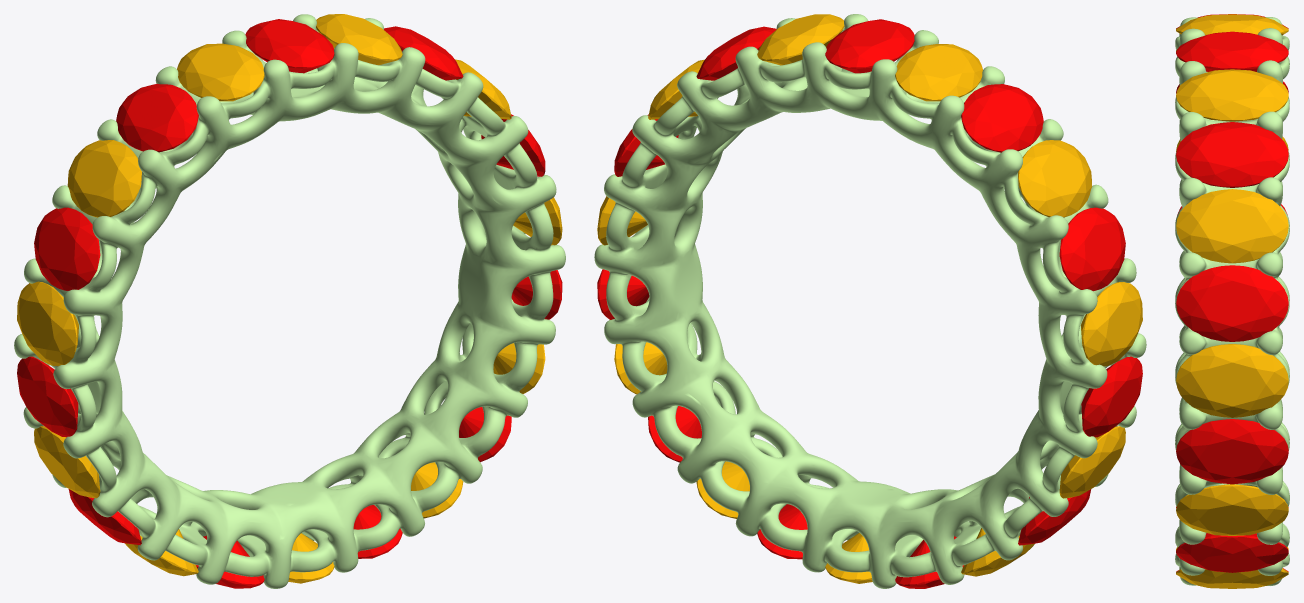
Rendered from TCC-RN-CR-32197-Oval-Eternity-20.glb.
The picture shows the model from 3 angles, left to right: view 1: azimuth 30°, elevation 25°; view 2: azimuth 150°, elevation 25°; view 3: azimuth 270°, elevation 25°; orthographic projection. The views are drawn at different scales.
Visible parts, largest first — view 1: Metal03, Diamond Band02.010, Diamond Band01.009, Diamond Band01.008, Diamond Band02.001, Diamond Band02.009, Diamond Band01.010, Diamond Band01.007, Diamond Band02, Diamond Band02.008, Diamond Band01, Diamond Band01.006 (+11 smaller); view 2: Metal03, Diamond Band02.010, Diamond Band01.009, Diamond Band01.008, Diamond Band02.001, Diamond Band02.009, Diamond Band01.010, Diamond Band01.007, Diamond Band02, Diamond Band02.008, Diamond Band01, Diamond Band01.006 (+11 smaller); view 3: Metal03, Diamond Band01.001, Diamond Band02.002, Diamond Band02.003, Diamond Band01, Diamond Band01.002, Diamond Band02, Diamond Band02.004, Diamond Band01.010, Diamond Band01.003, Diamond Band02.001, Diamond Band02.005.
Boxes of the visible parts, box(x1,y1,x2,y2) form: Metal03: box(14, 14, 565, 588); Diamond Band02.010: box(67, 140, 141, 217); Diamond Band01.009: box(116, 83, 198, 152); Diamond Band01.008: box(34, 207, 100, 290); Diamond Band02.001: box(177, 43, 264, 101); Diamond Band02.009: box(17, 281, 78, 366); Diamond Band01.010: box(245, 19, 334, 73); Diamond Band01.007: box(17, 356, 78, 437); Diamond Band02: box(316, 14, 402, 65); Diamond Band02.008: box(34, 426, 100, 498); Diamond Band01: box(384, 26, 463, 80); Diamond Band01.006: box(68, 489, 141, 545); Metal03: box(594, 14, 1146, 588); Diamond Band02.010: box(1018, 140, 1091, 217); Diamond Band01.009: box(961, 84, 1043, 152); Diamond Band01.008: box(1059, 207, 1125, 291); Diamond Band02.001: box(895, 44, 982, 101); Diamond Band02.009: box(1080, 282, 1142, 366); Diamond Band01.010: box(825, 19, 914, 73); Diamond Band01.007: box(1081, 356, 1142, 437); Diamond Band02: box(757, 14, 844, 65); Diamond Band02.008: box(1059, 426, 1125, 498); Diamond Band01: box(696, 26, 776, 80); Diamond Band01.006: box(1018, 489, 1091, 545); Metal03: box(1175, 17, 1289, 585); Diamond Band01.001: box(1176, 265, 1288, 341); Diamond Band02.002: box(1176, 189, 1288, 263); Diamond Band02.003: box(1176, 344, 1288, 417); Diamond Band01: box(1176, 122, 1288, 187); Diamond Band01.002: box(1176, 419, 1288, 484); Diamond Band02: box(1176, 69, 1288, 121); Diamond Band02.004: box(1176, 484, 1288, 535); Diamond Band01.010: box(1176, 31, 1288, 71); Diamond Band01.003: box(1176, 533, 1288, 572); Diamond Band02.001: box(1176, 14, 1288, 35); Diamond Band02.005: box(1176, 568, 1288, 588).
Bounding box in the file's own units: 23.98 × 23.95 × 4.79.
